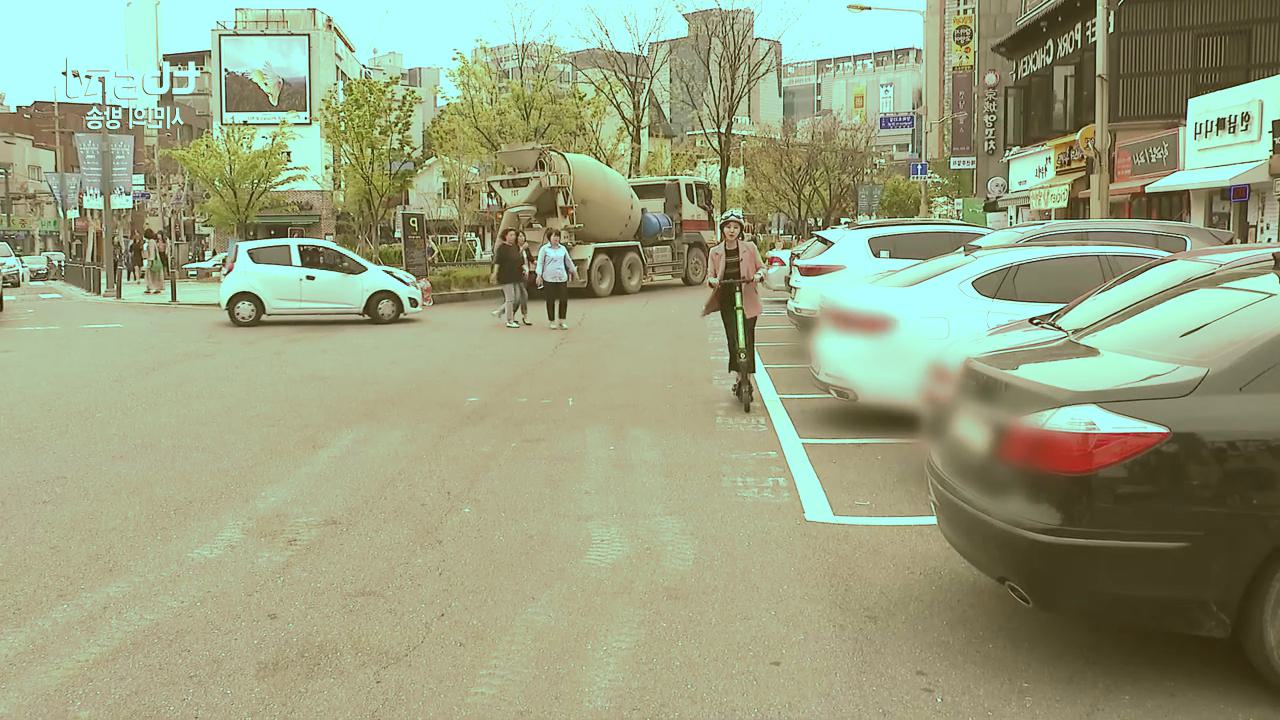helmet: (696, 205, 773, 416)
